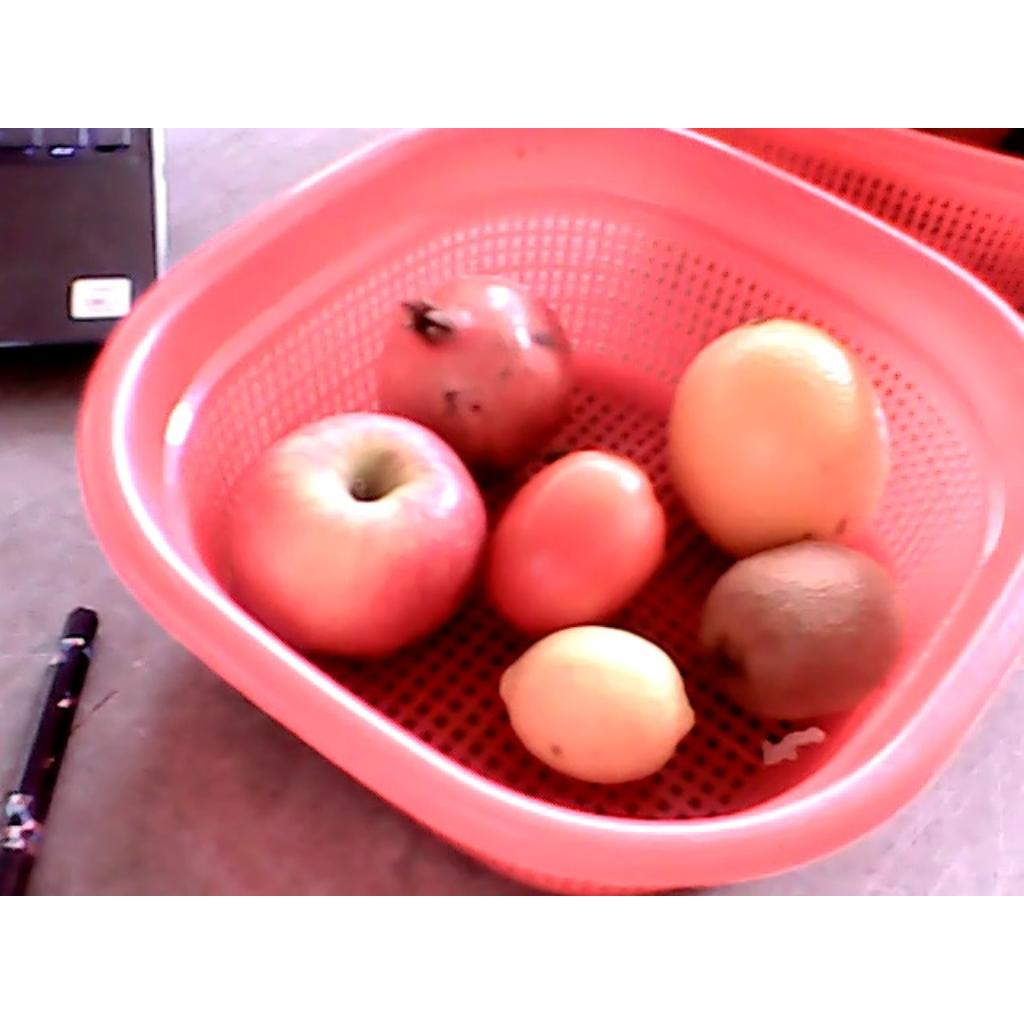apple: (220, 411, 489, 656)
kiwi: (690, 539, 910, 720)
lemon: (495, 622, 699, 785)
orange: (670, 311, 892, 555)
pomegranate: (378, 275, 576, 465)
tomato: (486, 450, 665, 630)
